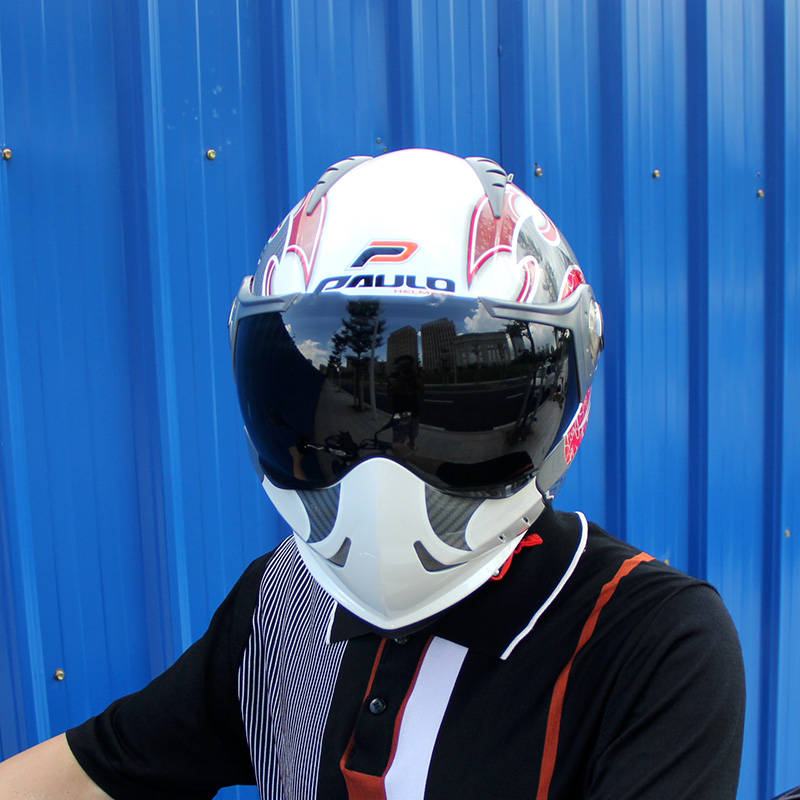helmet: (222, 162, 595, 593)
